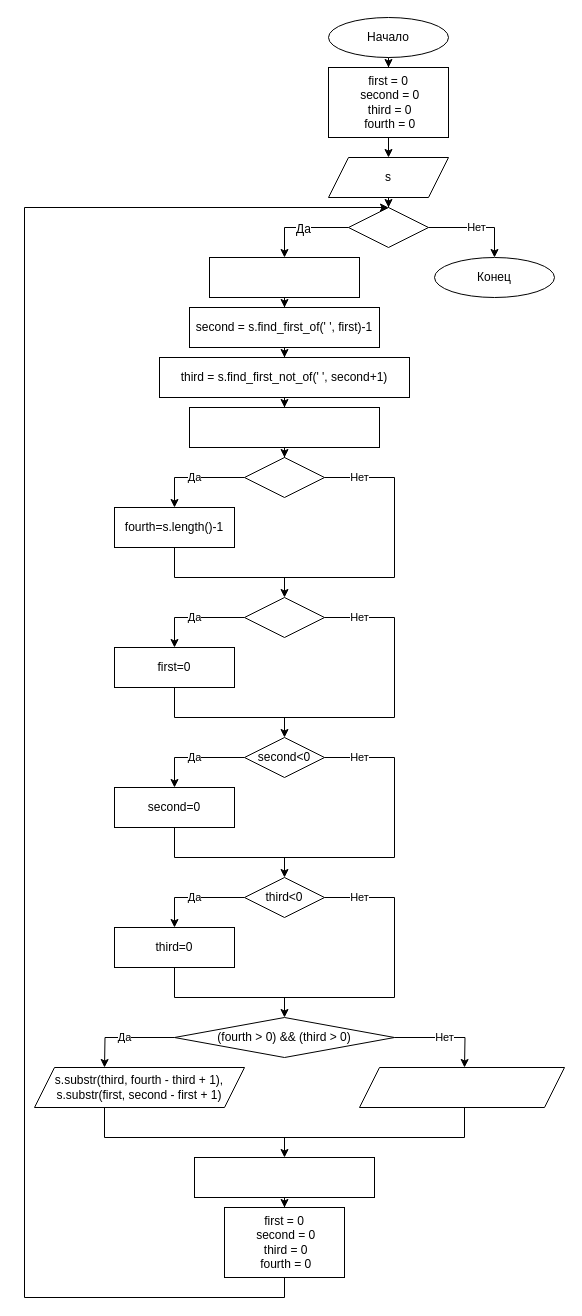
Image size: 582x1316. Some labels were removed from this diagram. Here are the shapes that lost their labels. From the top down, the centre of each, then its label:
point (388, 227): s.length() > 0
point (284, 277): first = s.find_first_not_of(' ')
point (284, 427): fourth = s.find_first_of(' ', third)-1
point (284, 477): fourth<0
point (284, 617): first<0
point (461, 1087): s.substr(first, second - first + 1)
point (284, 1177): s.erase(first, fourth - first+1)
